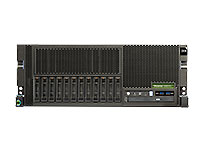ibm-server: (10, 41, 194, 111)
